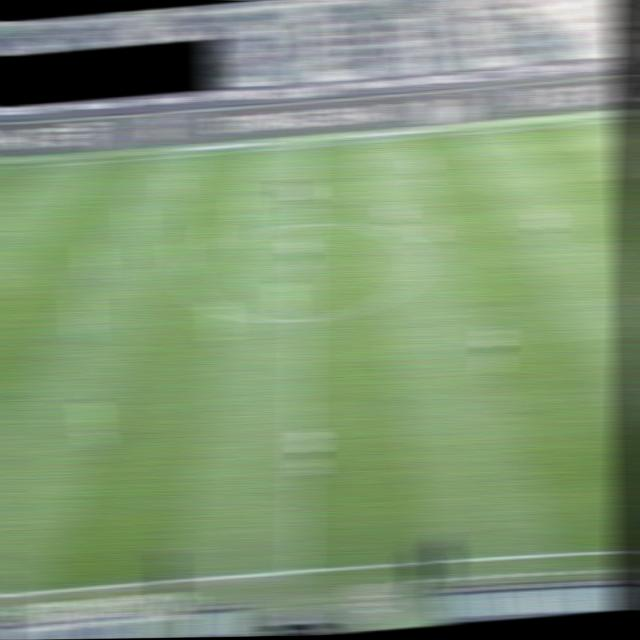halfcircle_bottom: (289, 312, 316, 325)
halfcircle_top: (292, 217, 318, 229)
midline_bottom_intersection: (283, 562, 314, 578)
midline_top_intersection: (290, 140, 319, 152)
